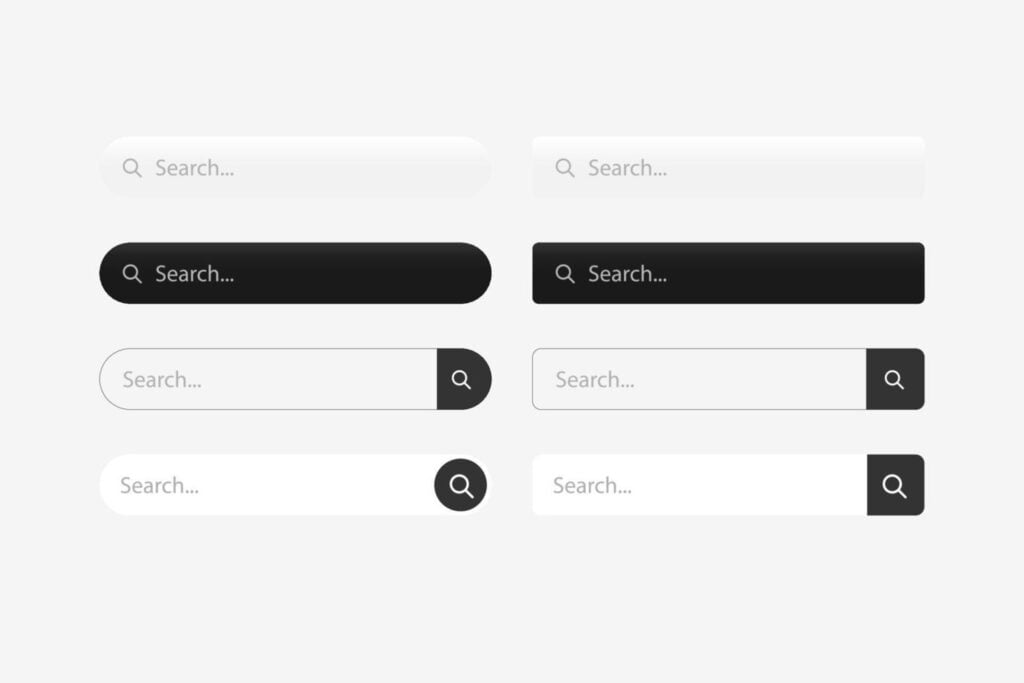search_box: (102, 238, 493, 304), (101, 454, 495, 516), (533, 245, 935, 305), (99, 348, 493, 409), (532, 350, 924, 411), (532, 459, 929, 519), (533, 141, 930, 200), (106, 141, 500, 195)
